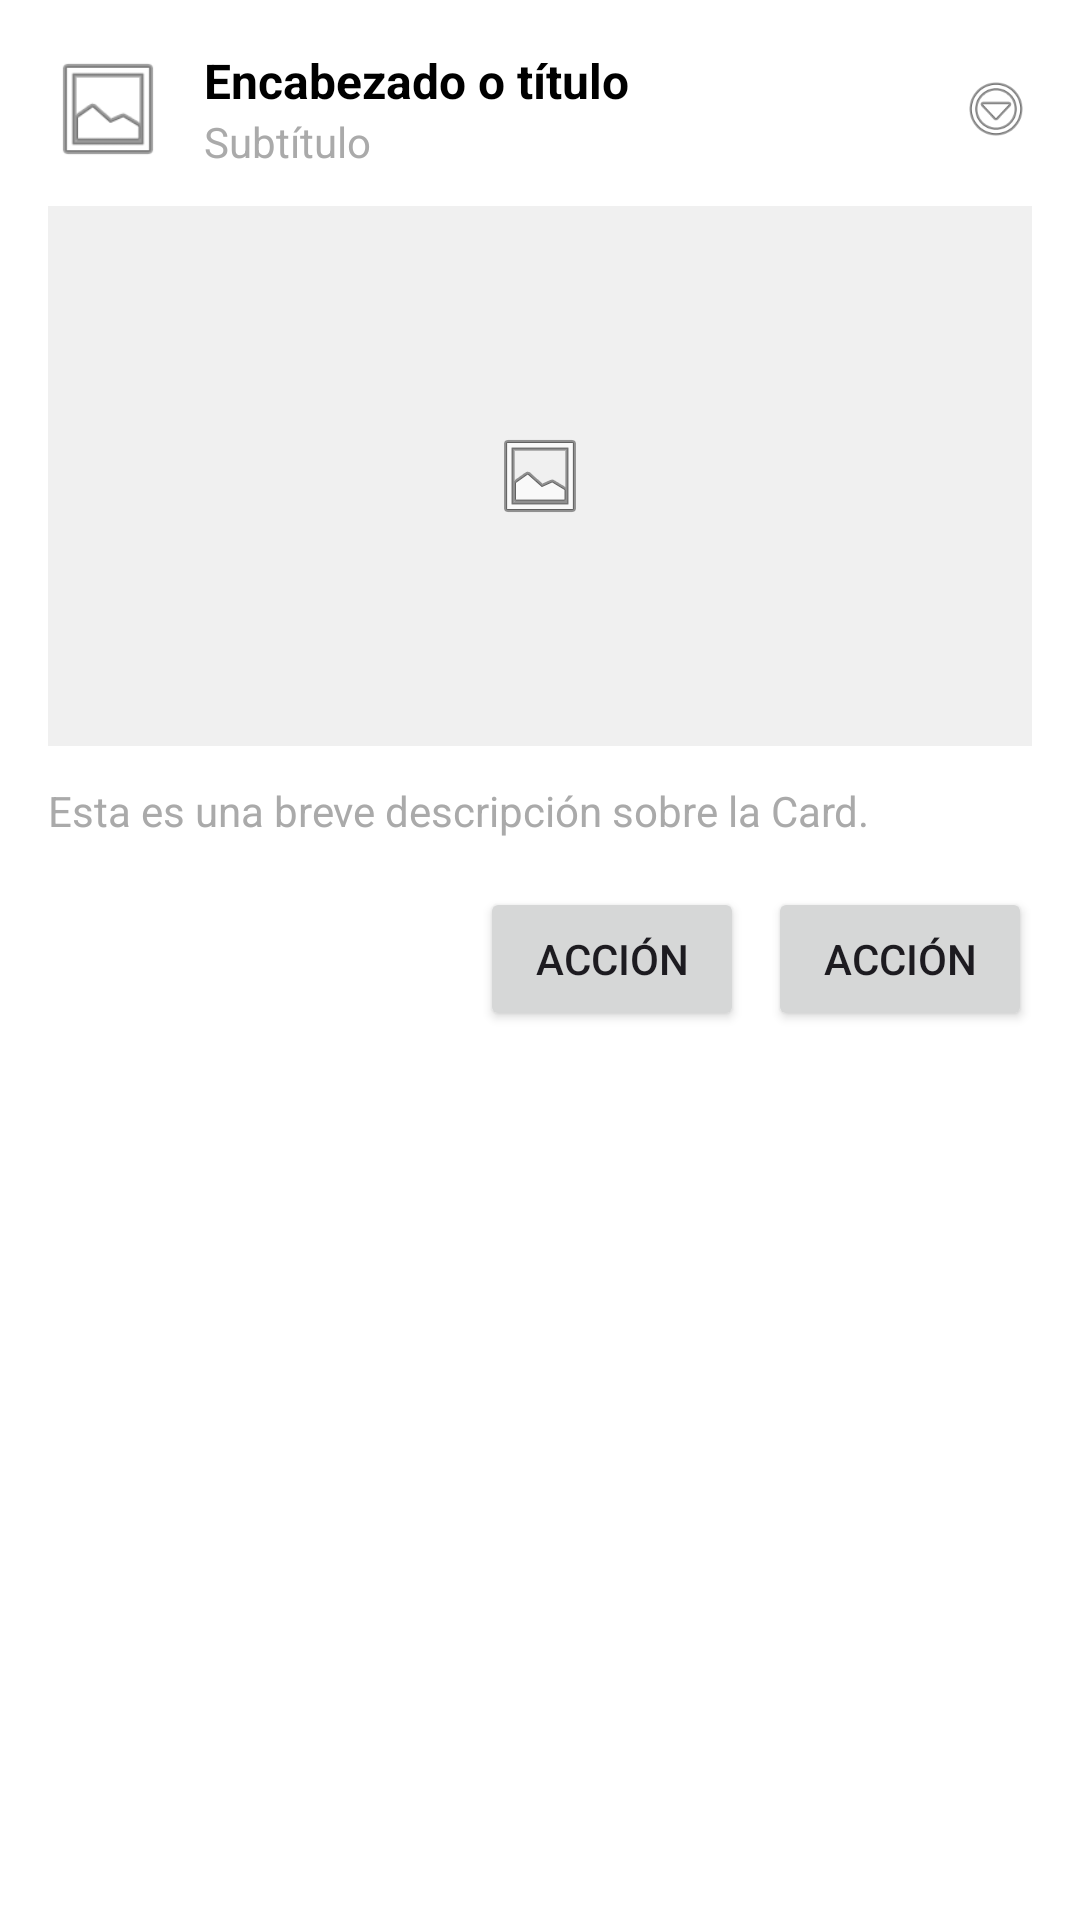

Screen size 1080px x 1920px. Icon name, then its center in pixels as point (x, y):
Opciones: point (996, 109)
